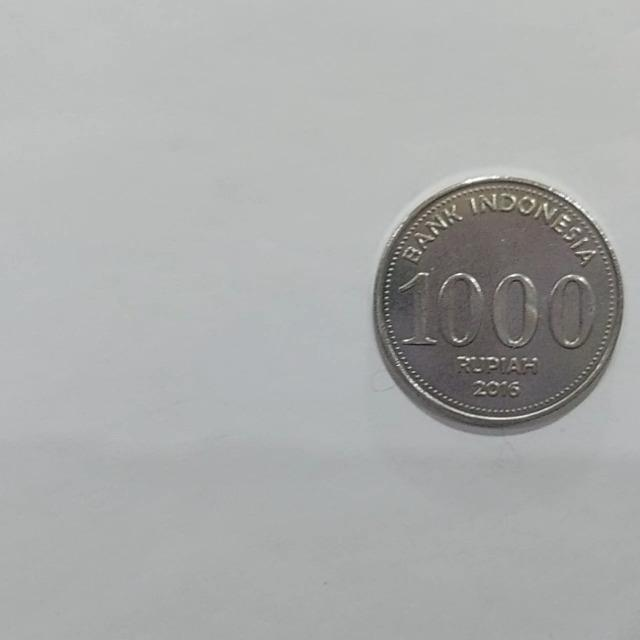Rp100: (370, 171, 624, 435)
